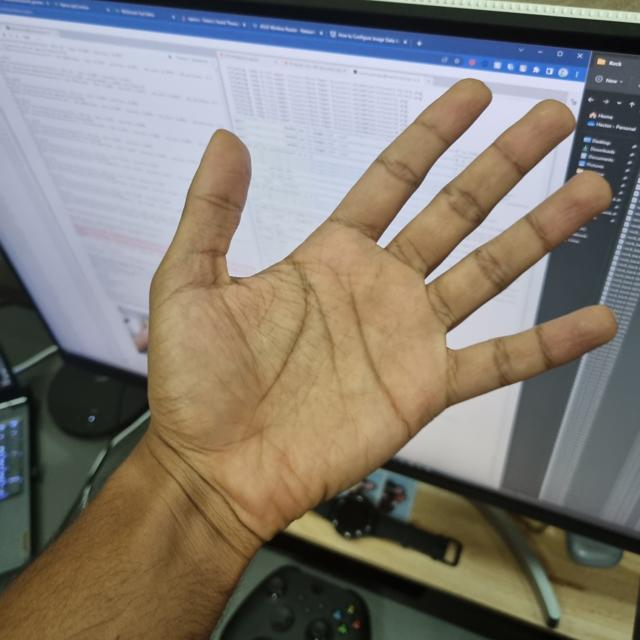Paper: (141, 103, 614, 525)
